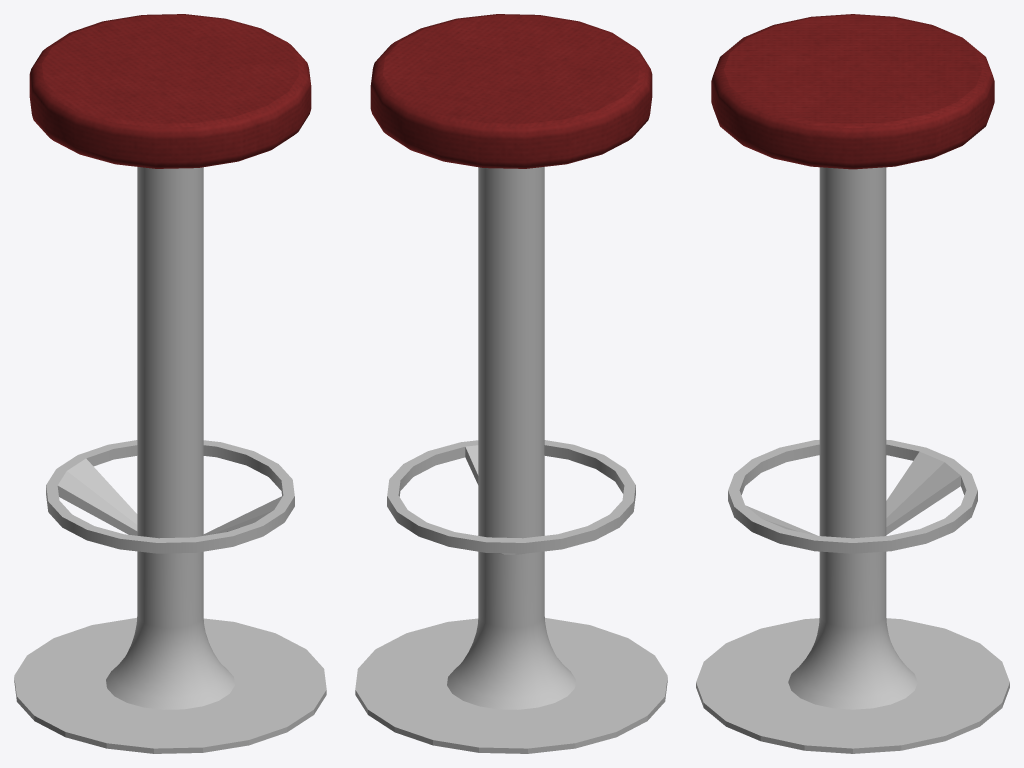
The model's file is Casino_Stool_low Textured.fbx.
3 views of the same model, side by side, from view 1: azimuth 30°, elevation 25°; view 2: azimuth 150°, elevation 25°; view 3: azimuth 270°, elevation 25° (orthographic).
Visible parts, largest first — view 1: Casino_Stool_low; view 2: Casino_Stool_low; view 3: Casino_Stool_low.
Boxes of the visible parts, bbox=[...] form: Casino_Stool_low: bbox=[14, 14, 326, 753]; Casino_Stool_low: bbox=[355, 14, 667, 753]; Casino_Stool_low: bbox=[696, 14, 1009, 753].
Size of the model in its own units: 1.17 by 2.54 by 1.17.
